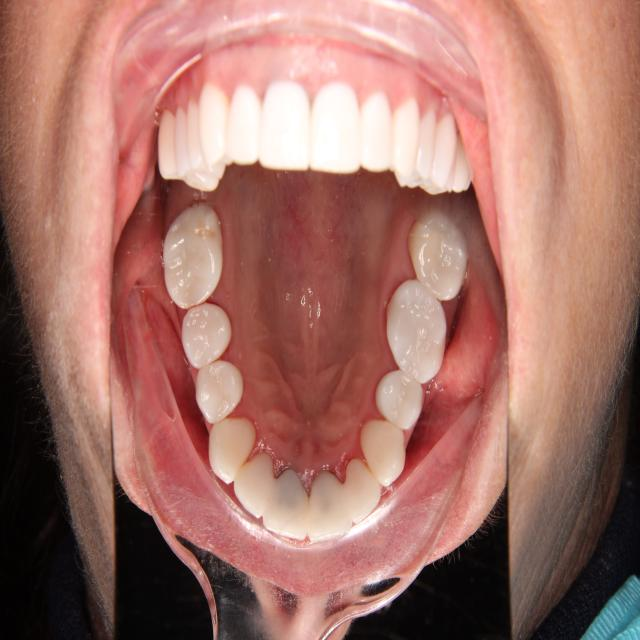tooth: (156, 192, 232, 314), (382, 268, 451, 391), (399, 204, 473, 306), (260, 459, 315, 547), (355, 405, 408, 494), (200, 413, 261, 488), (304, 465, 355, 551), (368, 363, 429, 434), (191, 354, 247, 428), (178, 300, 236, 369), (337, 445, 383, 531), (232, 443, 279, 518)
